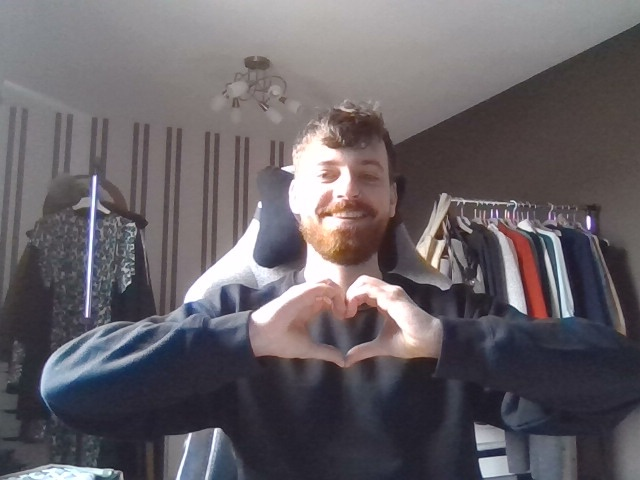Love: (244, 269, 444, 394)
